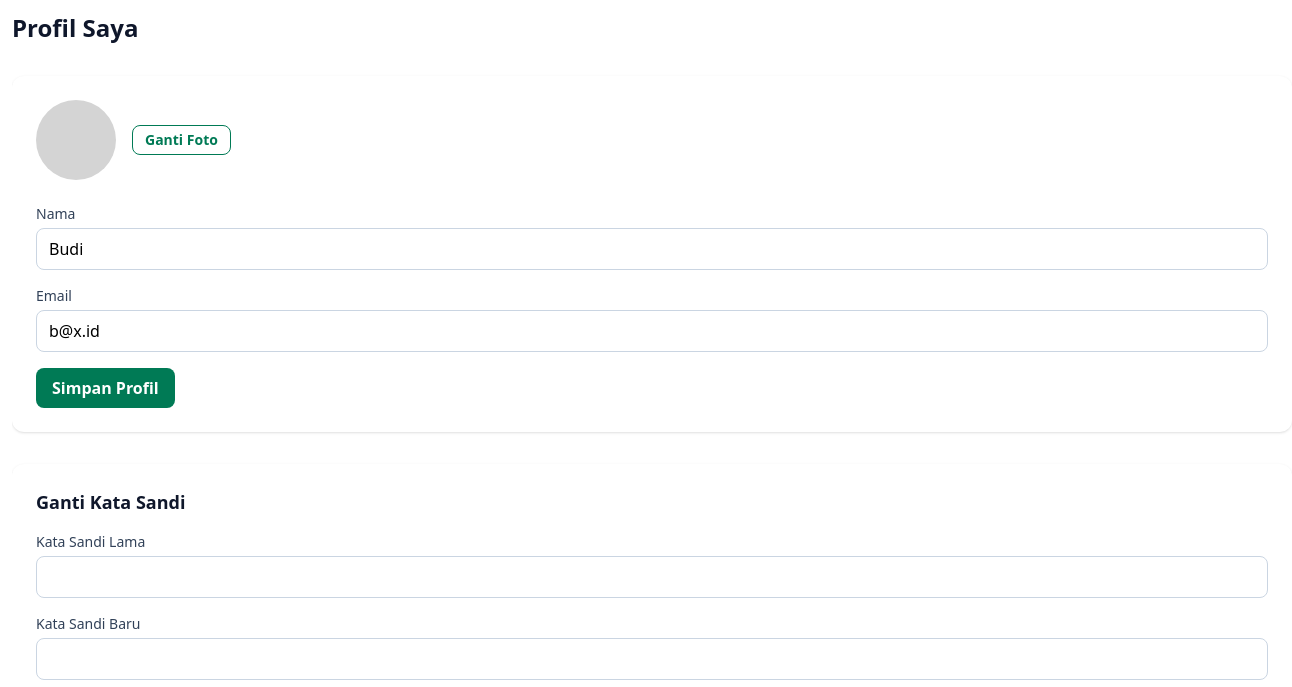
Test: ProfilePage › simpan profil: validasi
Clear the field with id "name": (652, 249) [36,228,1268,270]
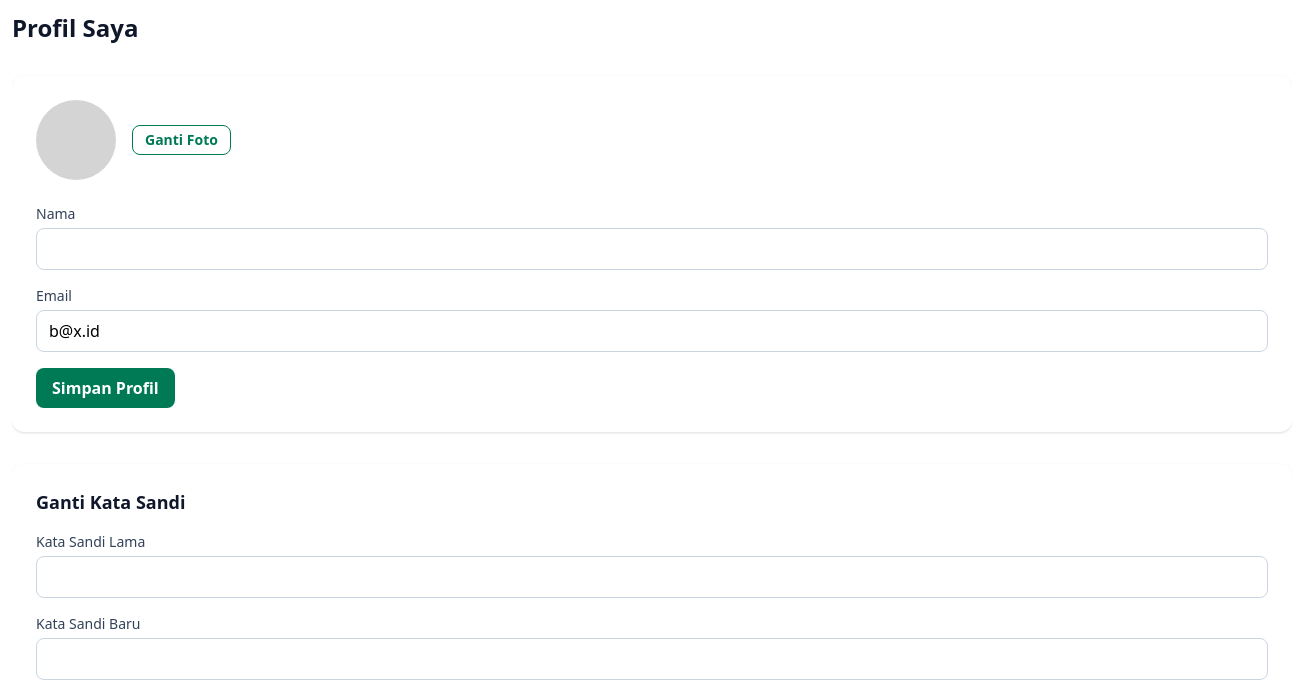
Clear the field with id "email": (652, 331) [36,310,1268,352]
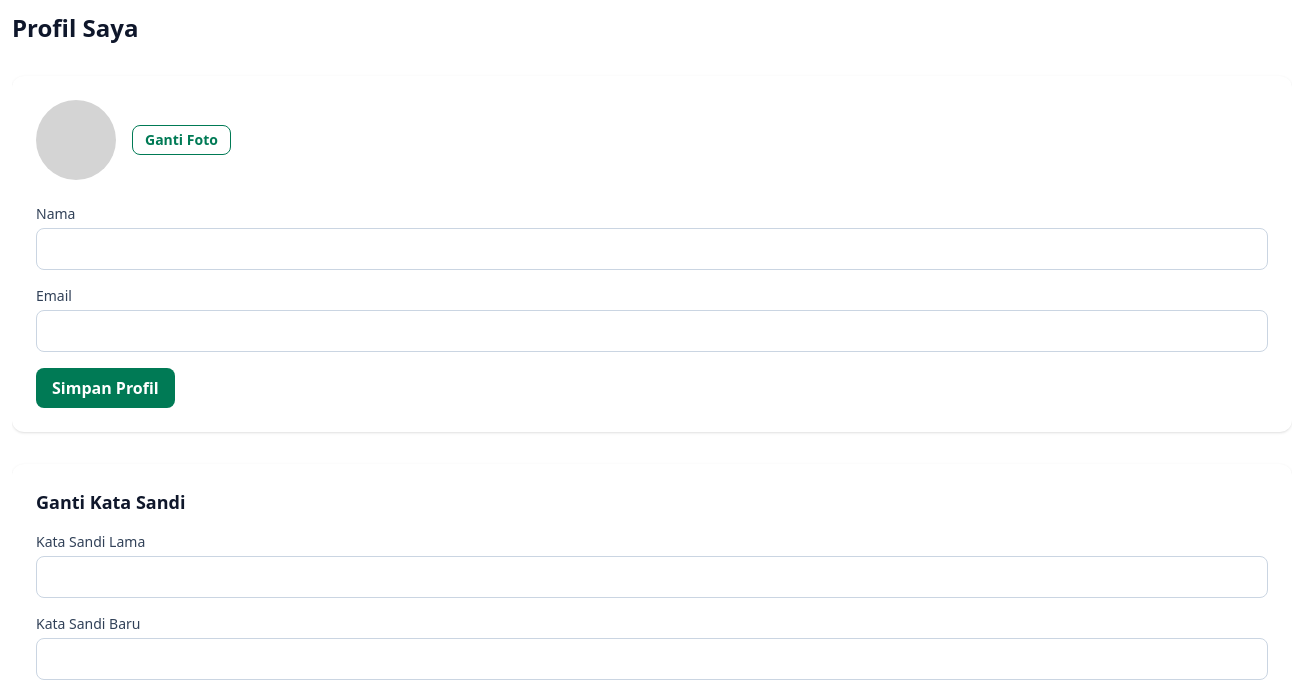
Submit the form "Nama Email Simpan Profil", box [36,204,1268,408]
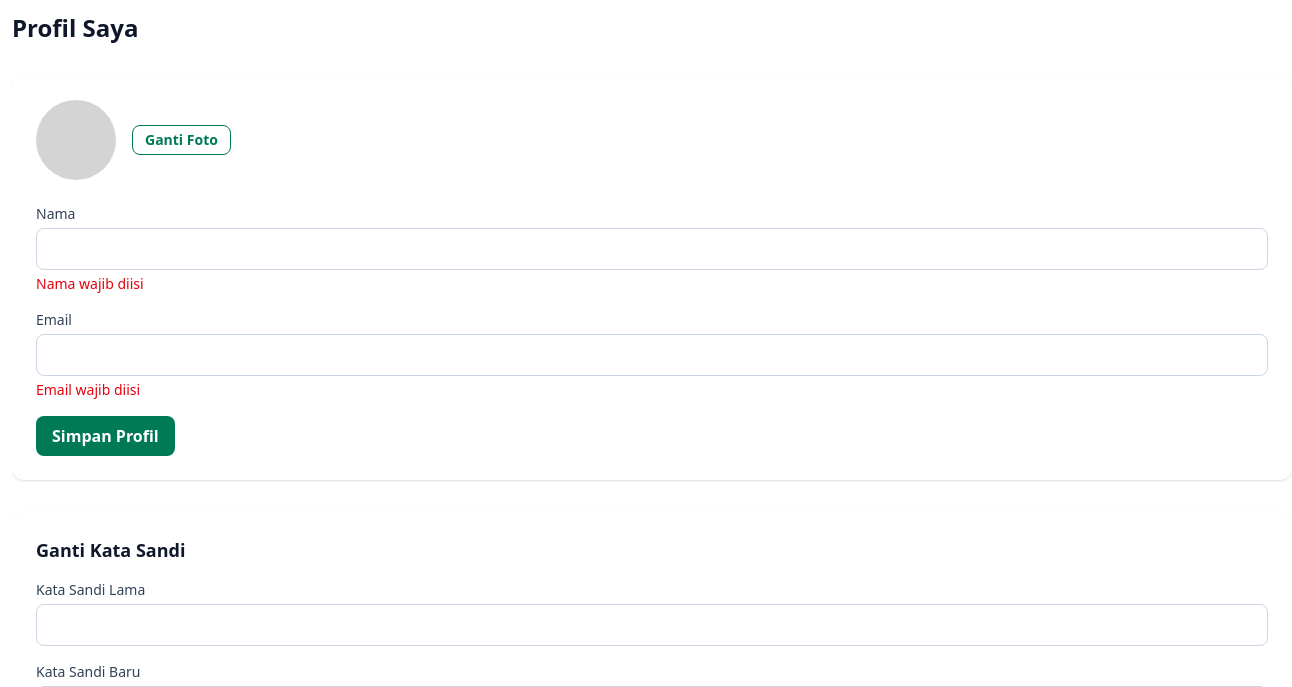
Now the text "Nama wajib diisi" is shown, box [36,274,144,293]
Now the text "Email wajib diisi" is shown, box [36,380,140,399]
